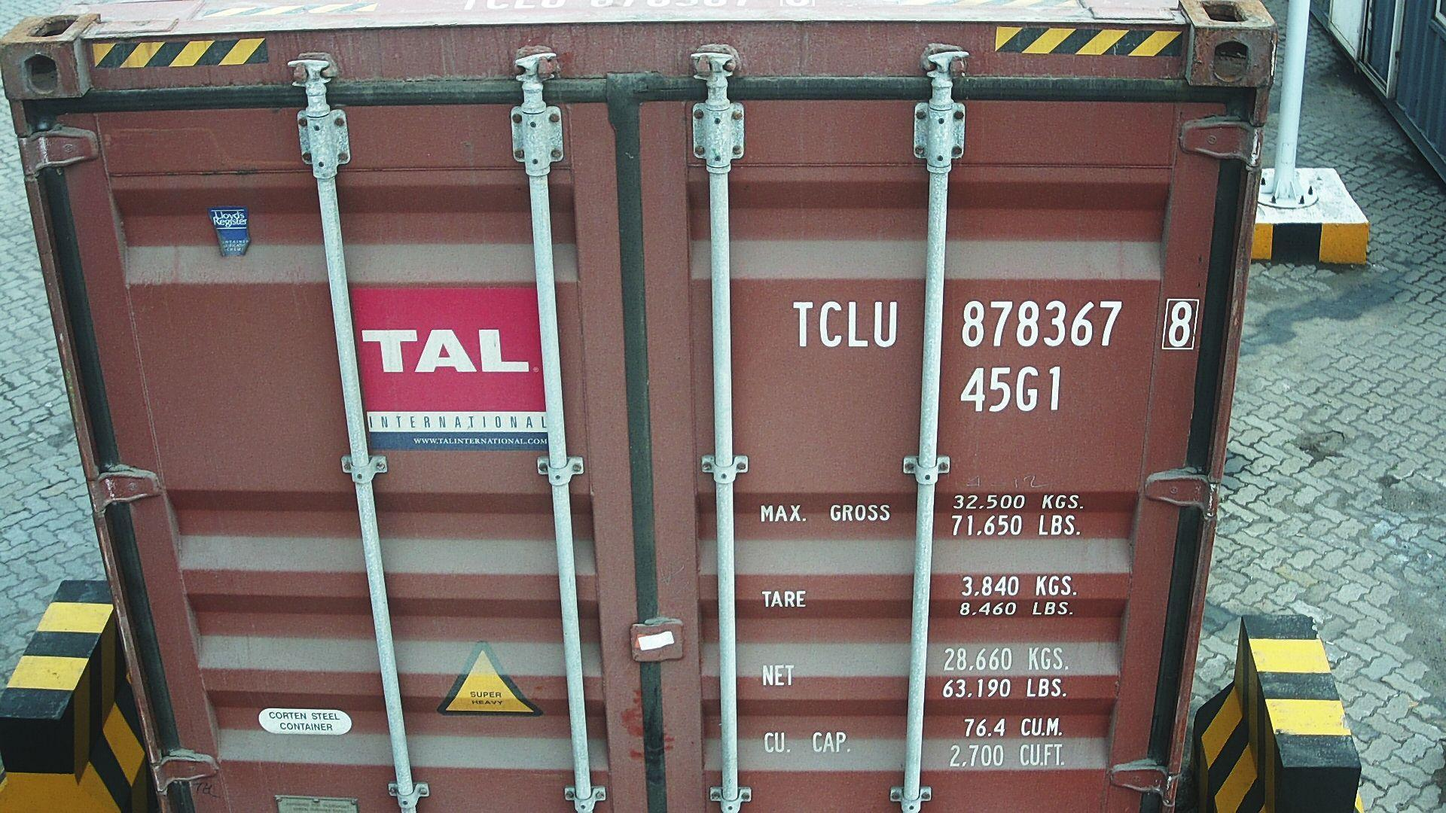container-numbers: (784, 293, 1207, 353), (959, 361, 1072, 416)
